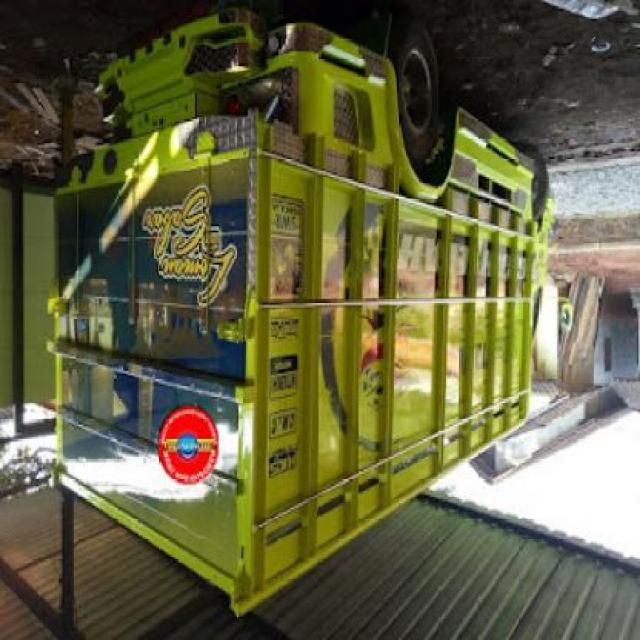truck: (51, 16, 577, 622)
